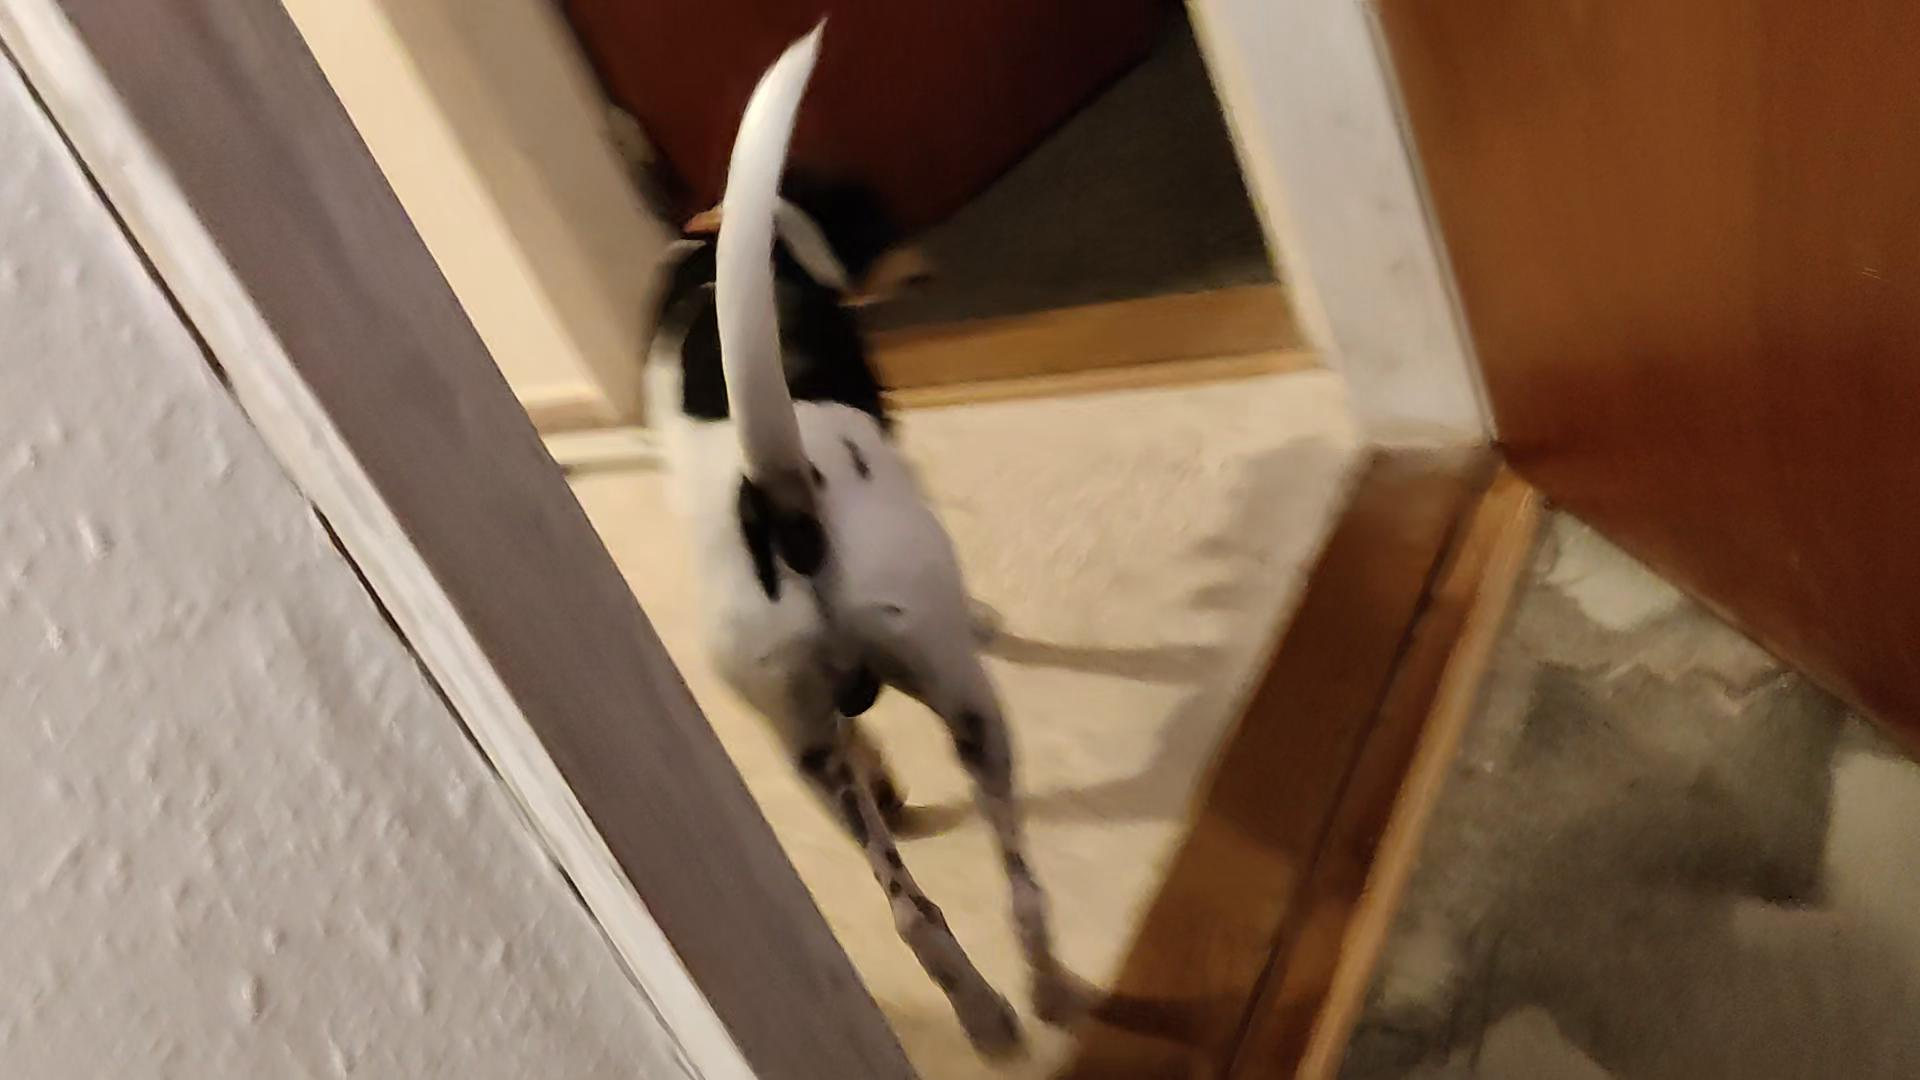Dog: (596, 9, 1124, 1059)
